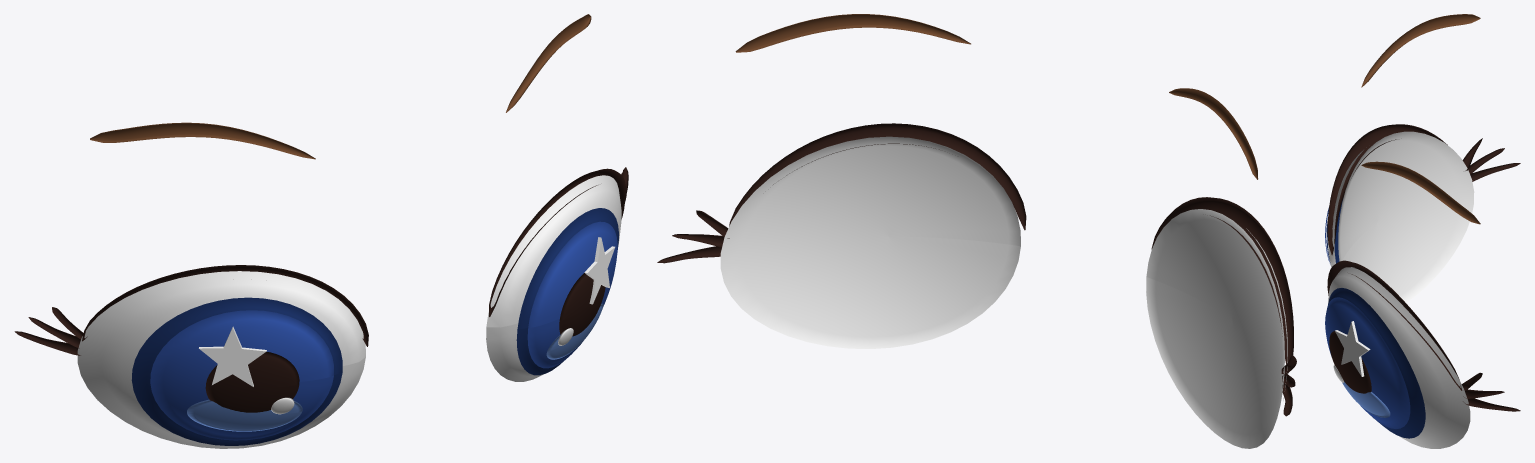
Rendered from eyes-happy.glb.
3 views of the same model, side by side, from view 1: azimuth 30°, elevation 25°; view 2: azimuth 150°, elevation 25°; view 3: azimuth 270°, elevation 25° (orthographic). The views are drawn at different scales.
Parts seen in each view (by area): view 1: eyeball, iris, eyeballR, irisrim, irisR, brows, pupil, irisrimR, irislight, lid, pupilR, shine (+3 smaller); view 2: eyeballR, eyeball, lidR, brows, lid; view 3: eyeball, eyeballR, irisR, brows, irisrimR, lid, lidR, pupilR, shineR, irislightR, lash2R, lash2 (+3 smaller).
Boxes of the visible parts, x1,y1,x2,y2 form: eyeball: (77, 271, 365, 448); iris: (150, 310, 333, 440); eyeballR: (486, 175, 621, 381); irisrim: (131, 297, 342, 445); irisR: (527, 221, 617, 368); brows: (90, 14, 591, 159); pupil: (205, 351, 299, 412); irisrimR: (516, 208, 618, 375); irislight: (187, 399, 302, 431); lid: (82, 265, 368, 346); pupilR: (559, 273, 605, 336); shine: (199, 326, 266, 386); eyeballR: (720, 136, 1020, 348); eyeball: (1146, 209, 1288, 448); lidR: (729, 123, 1026, 230); brows: (735, 14, 1258, 179); lid: (1151, 197, 1293, 372); eyeball: (1328, 131, 1474, 302); eyeballR: (1328, 267, 1470, 448); irisR: (1325, 297, 1410, 428); brows: (1361, 14, 1480, 224); irisrimR: (1328, 288, 1425, 438); lid: (1327, 124, 1447, 255); lidR: (1327, 260, 1461, 390); pupilR: (1329, 331, 1371, 393); shineR: (1335, 321, 1370, 376); irislightR: (1342, 381, 1390, 417); lash2R: (1463, 396, 1520, 411); lash2: (1470, 163, 1520, 181).
Bounding box in the file's own units: 0.7783 × 0.3973 × 0.2597.
